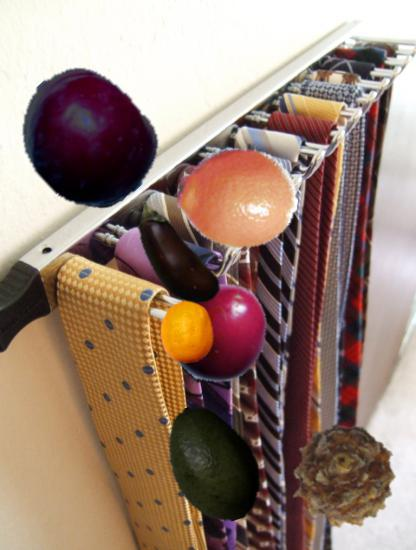Avocado: (153, 402, 276, 525)
Blueberry: (49, 124, 138, 213)
Eggplant: (115, 200, 233, 318)
Lemon: (155, 299, 219, 363)
Pineapple: (286, 418, 399, 531)
Plum: (15, 67, 159, 211)
Tamarillo: (162, 280, 275, 393)
Tangelo: (177, 134, 299, 256)
